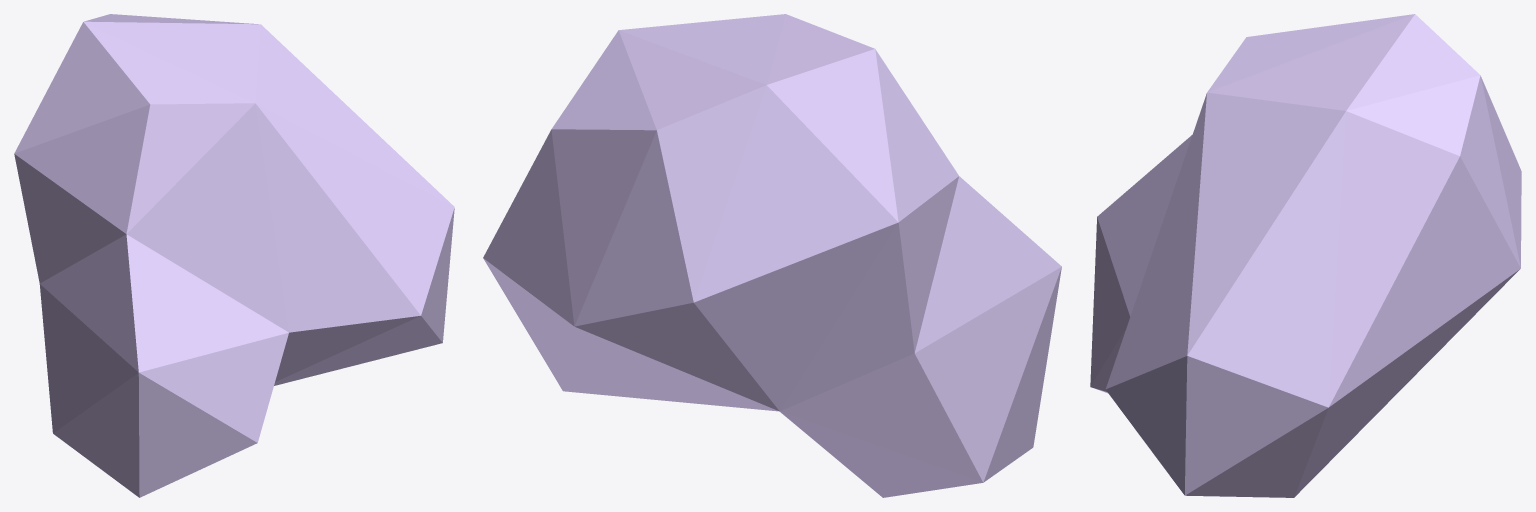
Rendered from Cloud_8.glb.
3 renders of one model, left to right at view 1: azimuth 30°, elevation 25°; view 2: azimuth 150°, elevation 25°; view 3: azimuth 270°, elevation 25°, orthographic. The views are drawn at different scales.
Parts seen in each view (by area): view 1: Cloud_08; view 2: Cloud_08; view 3: Cloud_08.
Part boxes in pixels (box(x1,y1,x2,y2)): Cloud_08: box(14, 14, 454, 497); Cloud_08: box(483, 14, 1061, 497); Cloud_08: box(1090, 14, 1521, 497).
Size of the model in its own units: 1.5 by 1.49 by 1.37.
